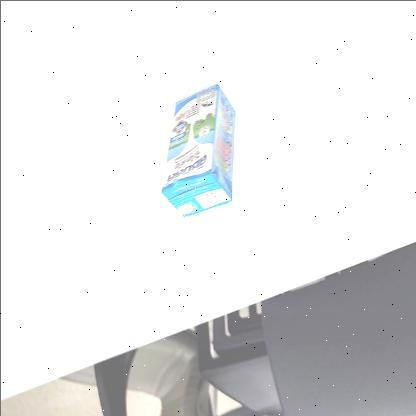Others: (153, 78, 243, 224)
